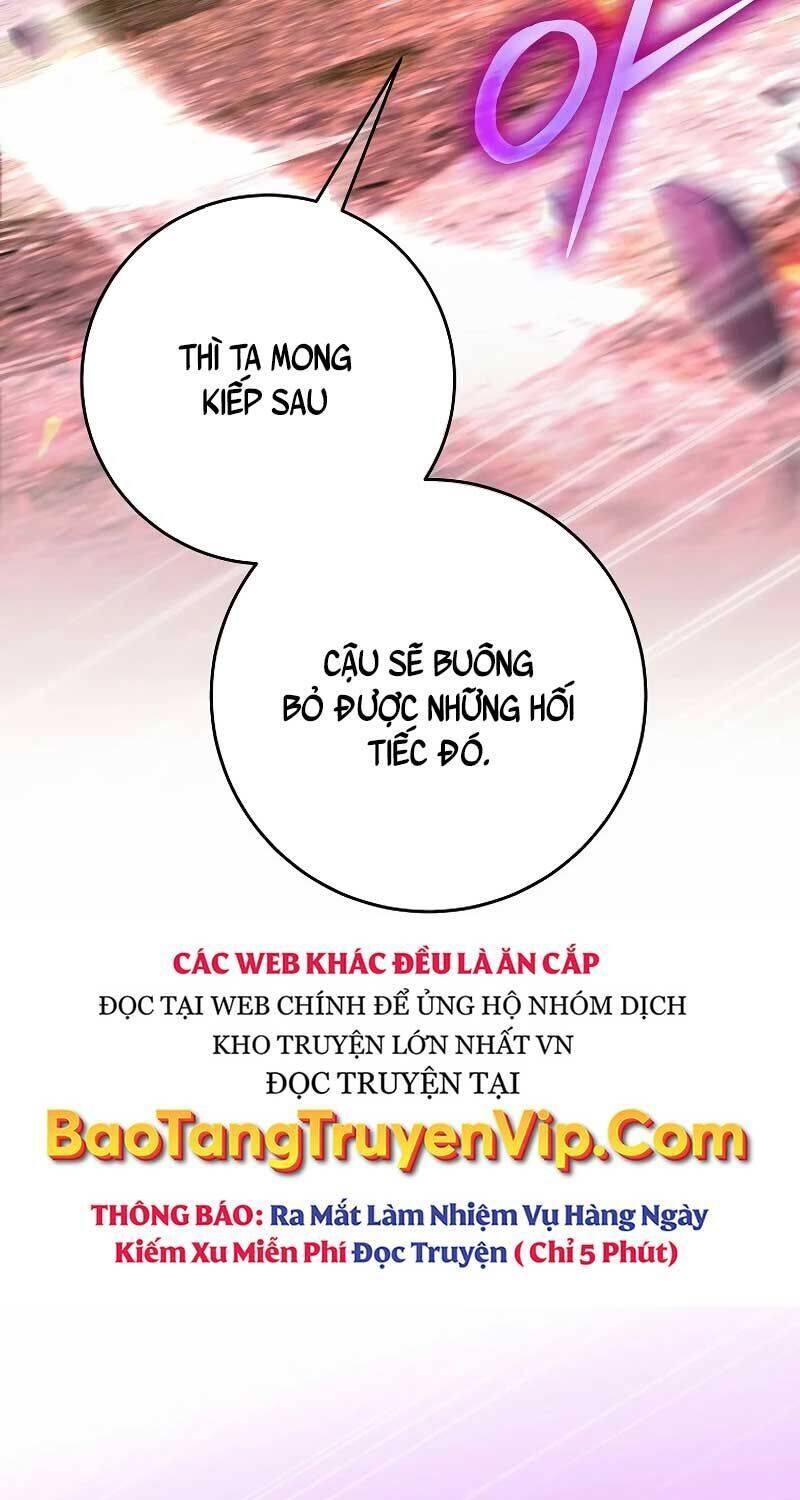quangcao: (38, 934, 768, 1278)
